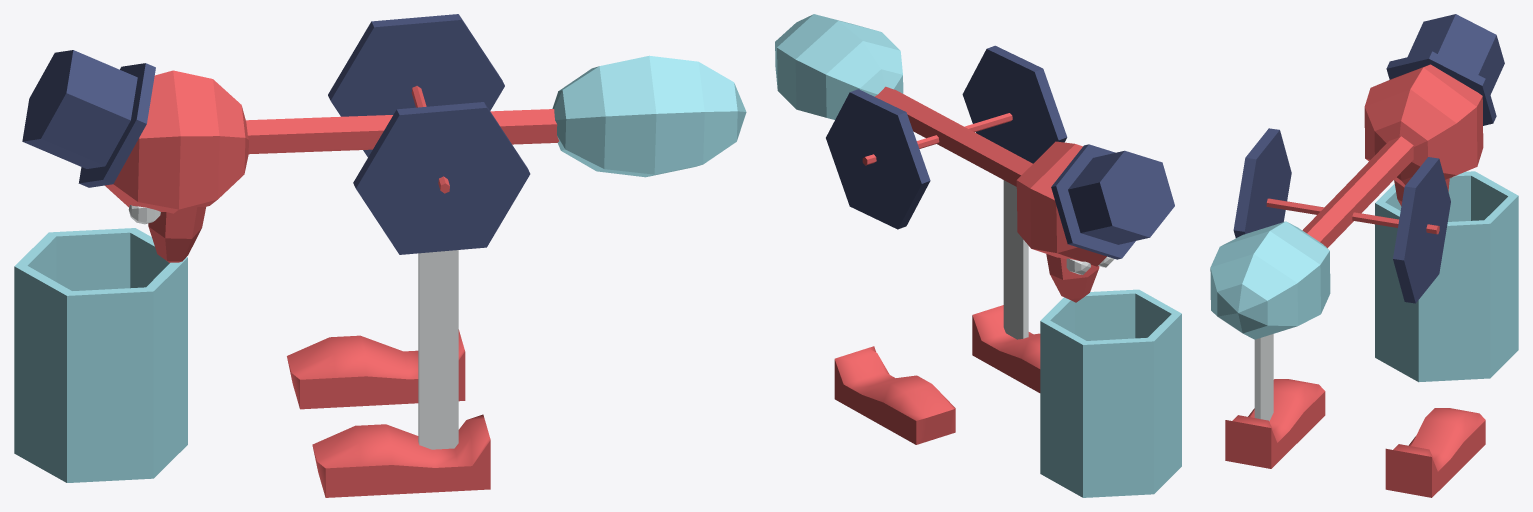
Rendered from DrinnkingBird_Mesh.fbx.
3 views of the same model, side by side, from view 1: azimuth 30°, elevation 25°; view 2: azimuth 150°, elevation 25°; view 3: azimuth 270°, elevation 25° (orthographic). The views are drawn at different scales.
Visible parts, largest first — view 1: polySurface45, polySurface54, pCylinder45; view 2: polySurface45, polySurface54, pCylinder45; view 3: polySurface54, polySurface45, pCylinder45.
Part boxes in pixels (x1=…): polySurface45: x1=287, y1=14, x2=530, y2=497; polySurface54: x1=22, y1=50, x2=746, y2=262; pCylinder45: x1=14, y1=228, x2=187, y2=482; polySurface45: x1=826, y1=45, x2=1067, y2=444; polySurface54: x1=775, y1=14, x2=1174, y2=302; pCylinder45: x1=1040, y1=289, x2=1181, y2=497; polySurface54: x1=1210, y1=14, x2=1504, y2=339; polySurface45: x1=1225, y1=128, x2=1485, y2=497; pCylinder45: x1=1375, y1=171, x2=1518, y2=382.
Size of the model in its own units: 5.33 by 3.5 by 2.92.
